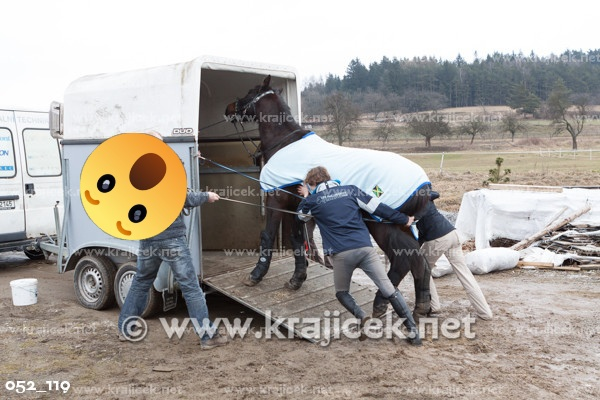wow: (80, 133, 187, 240)
